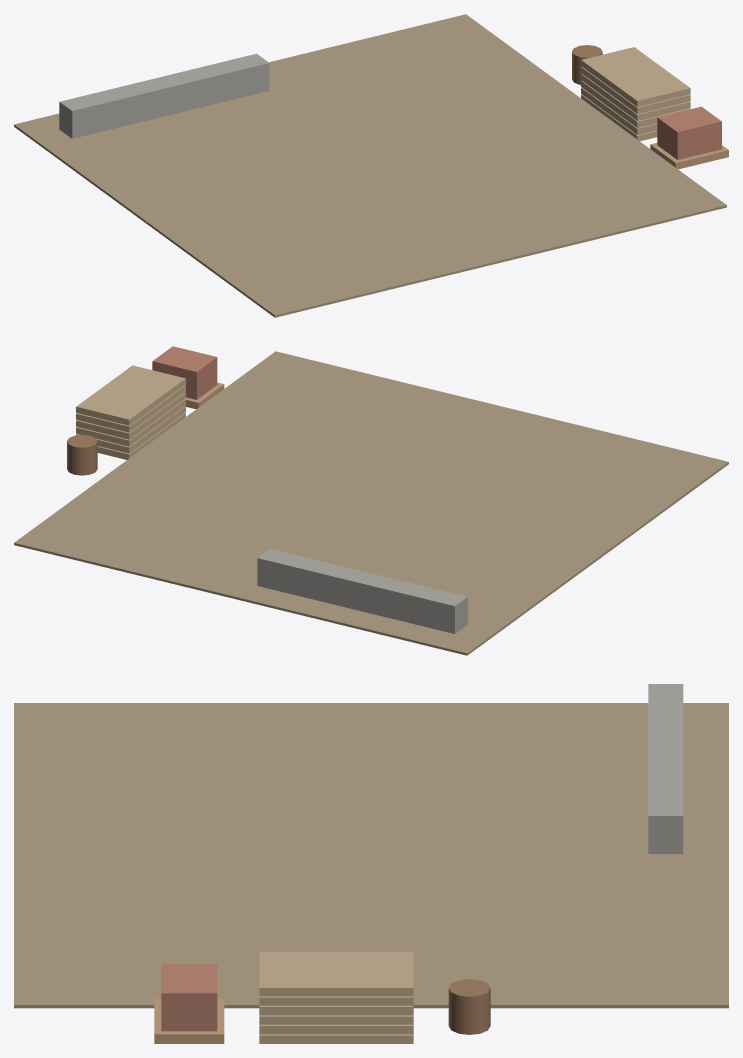
The model's file is spa_site_1.glb.
The picture shows the model from 3 angles, top to bottom: view 1: azimuth 30°, elevation 25°; view 2: azimuth 150°, elevation 25°; view 3: azimuth 270°, elevation 25°; orthographic projection. The views are drawn at different scales.
Visible parts, largest first — view 1: body; view 2: body; view 3: body.
Part boxes in pixels (box(x1,y1,x2,y2)): body: box(14, 14, 728, 317); body: box(14, 346, 728, 655); body: box(14, 684, 728, 1043).
Size of the model in its own units: 2.28 by 0.176 by 2.04.
